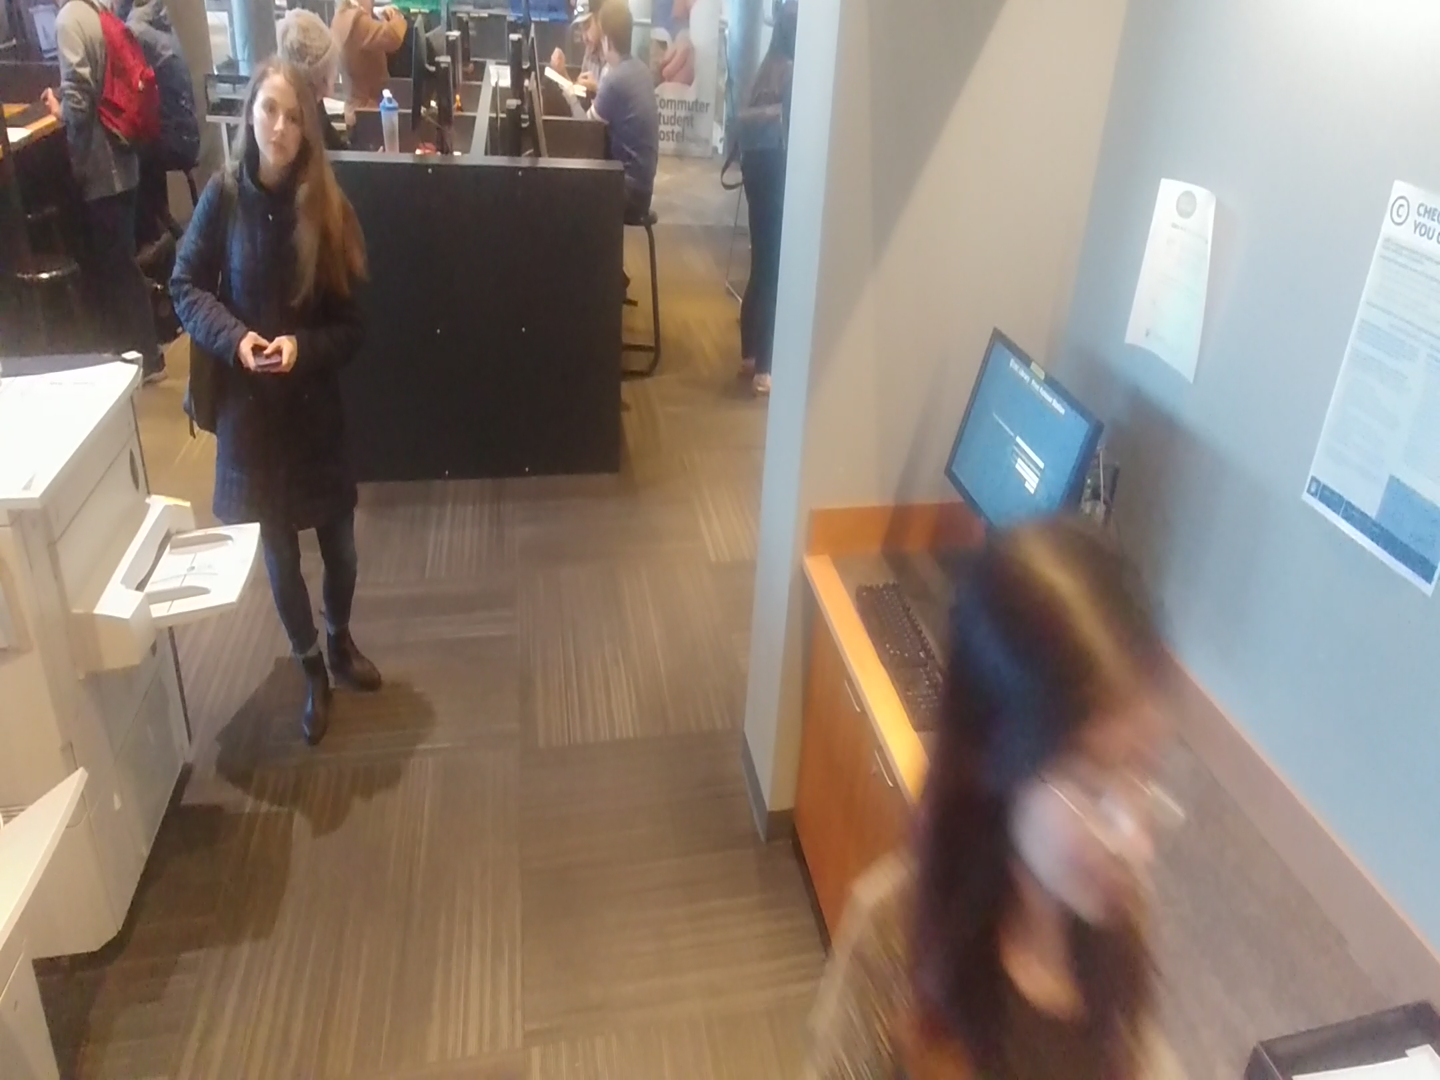face: (910, 491, 1192, 985), (225, 46, 332, 199), (590, 0, 644, 73), (565, 0, 606, 60)
human: (792, 497, 1200, 1080), (160, 43, 392, 758), (26, 0, 171, 387), (724, 0, 804, 399), (569, 0, 669, 234)
